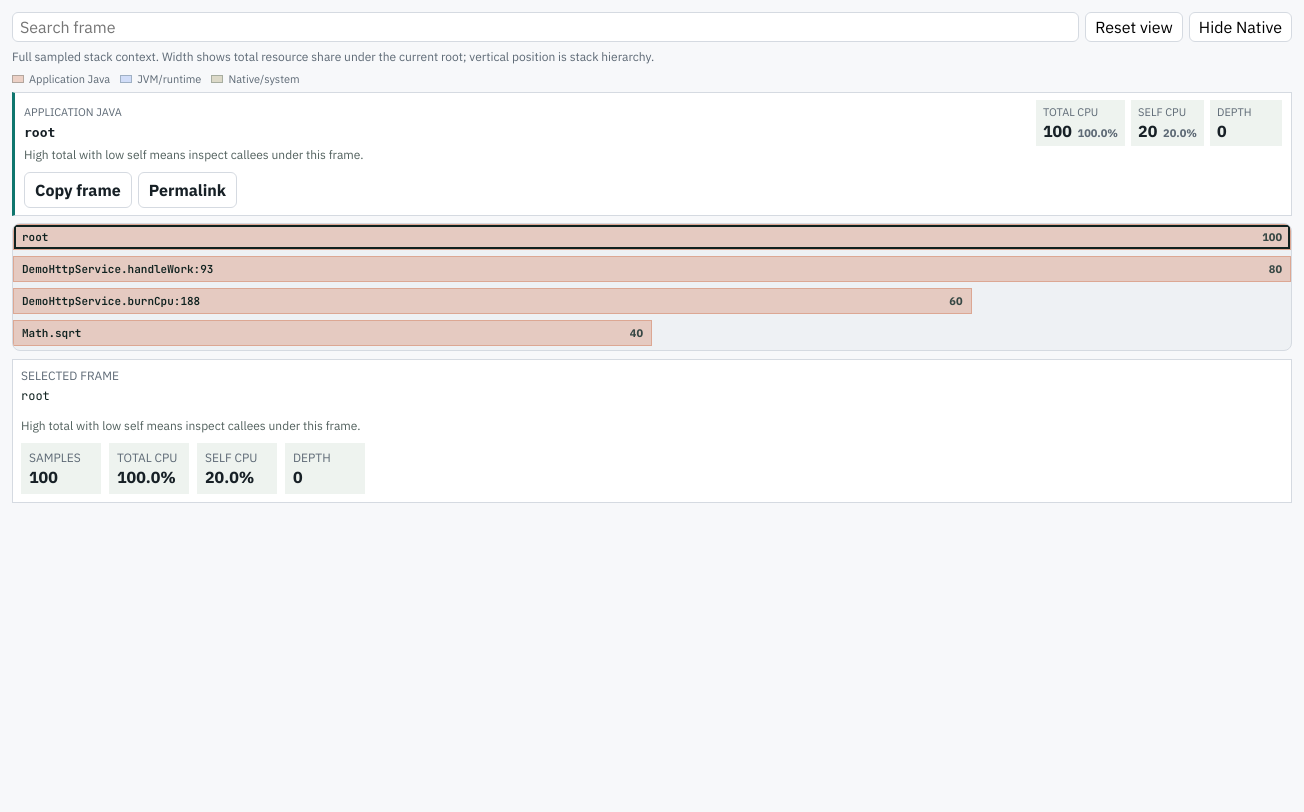
Test case: walks back through consecutive focused frames and reset returns to root
The image size is (1304, 812).
Step 1. Click the button "DemoHttpService.handleWork:93 80" → {"x": 118, "y": 269}, box [13, 256, 1291, 282]
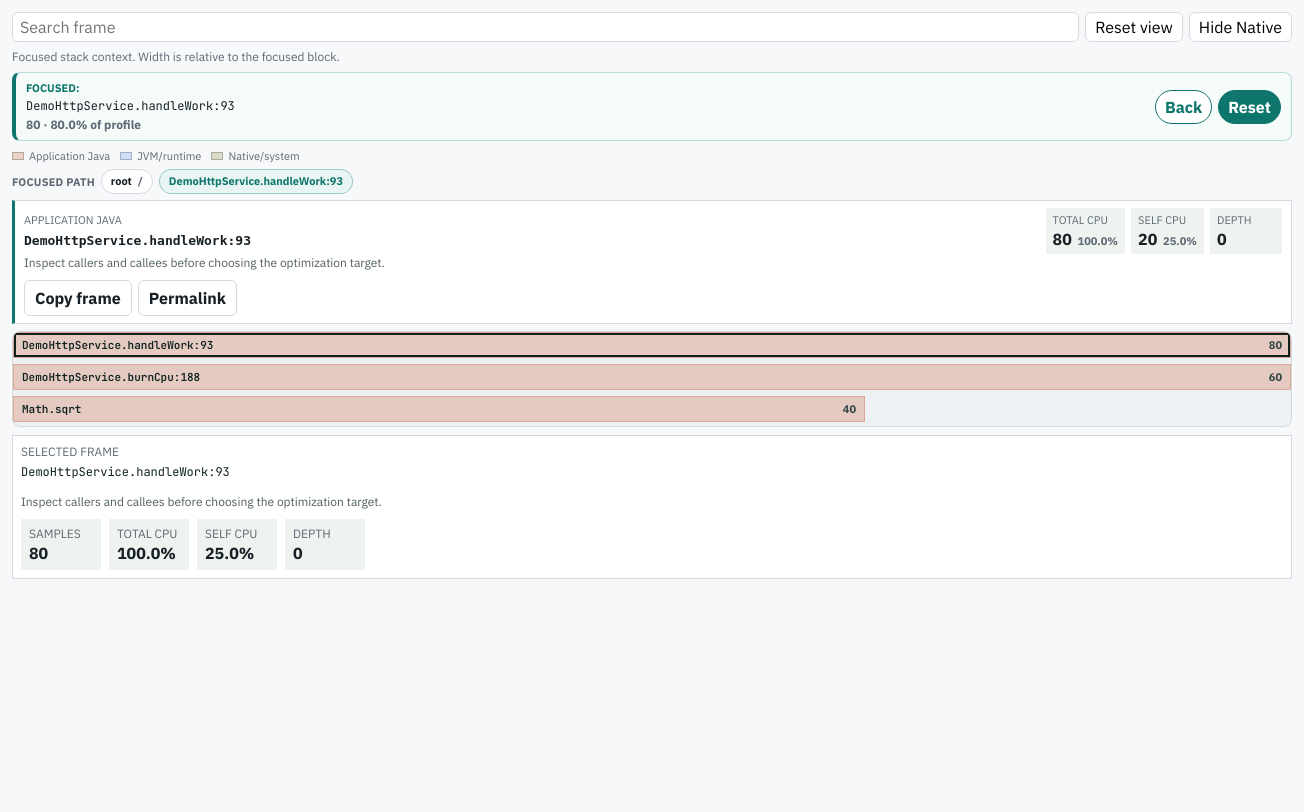
Result: the element named "Focused flamegraph state" shows "DemoHttpService.handleWork:93" at [26, 98, 235, 114]
Step 2. Click the button "DemoHttpService.burnCpu:188 60" → {"x": 111, "y": 377}, box [13, 364, 1291, 390]
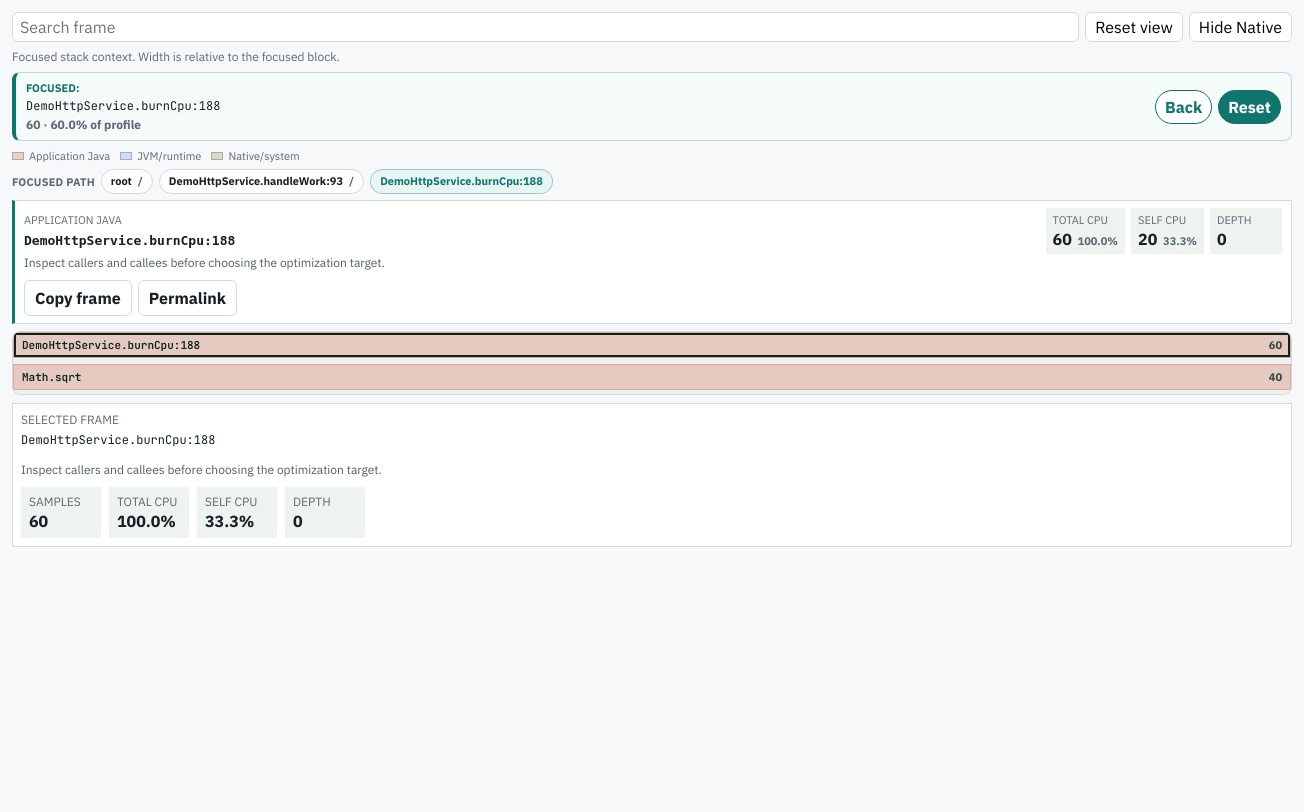
Result: the element named "Focused flamegraph state" shows "DemoHttpService.burnCpu:188" at [26, 98, 220, 114]
Step 3. Click the button "Back" → {"x": 1184, "y": 107}, box [1155, 90, 1212, 124]
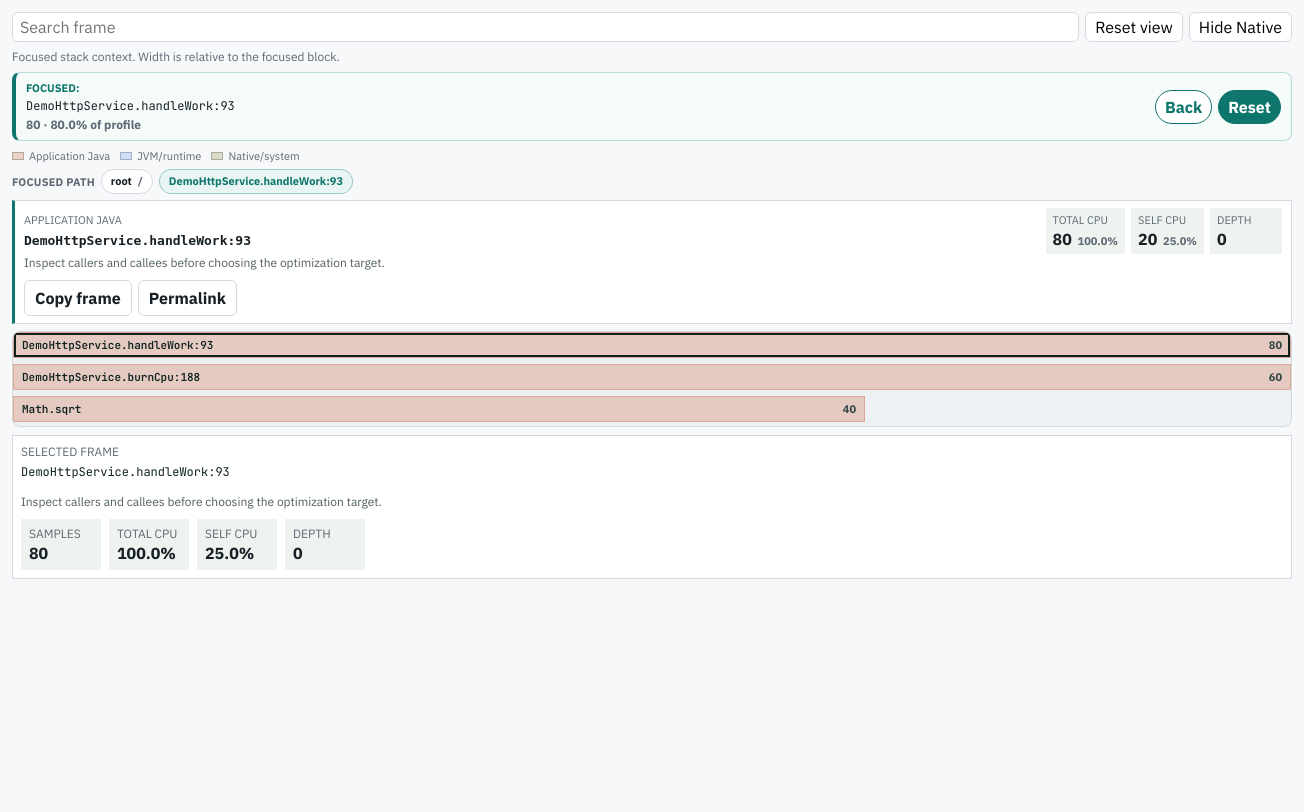
Result: the element named "Focused flamegraph state" shows "DemoHttpService.handleWork:93" at [26, 98, 235, 114]
Step 4. Click the button "Reset" → {"x": 1250, "y": 107}, box [1218, 90, 1281, 124]
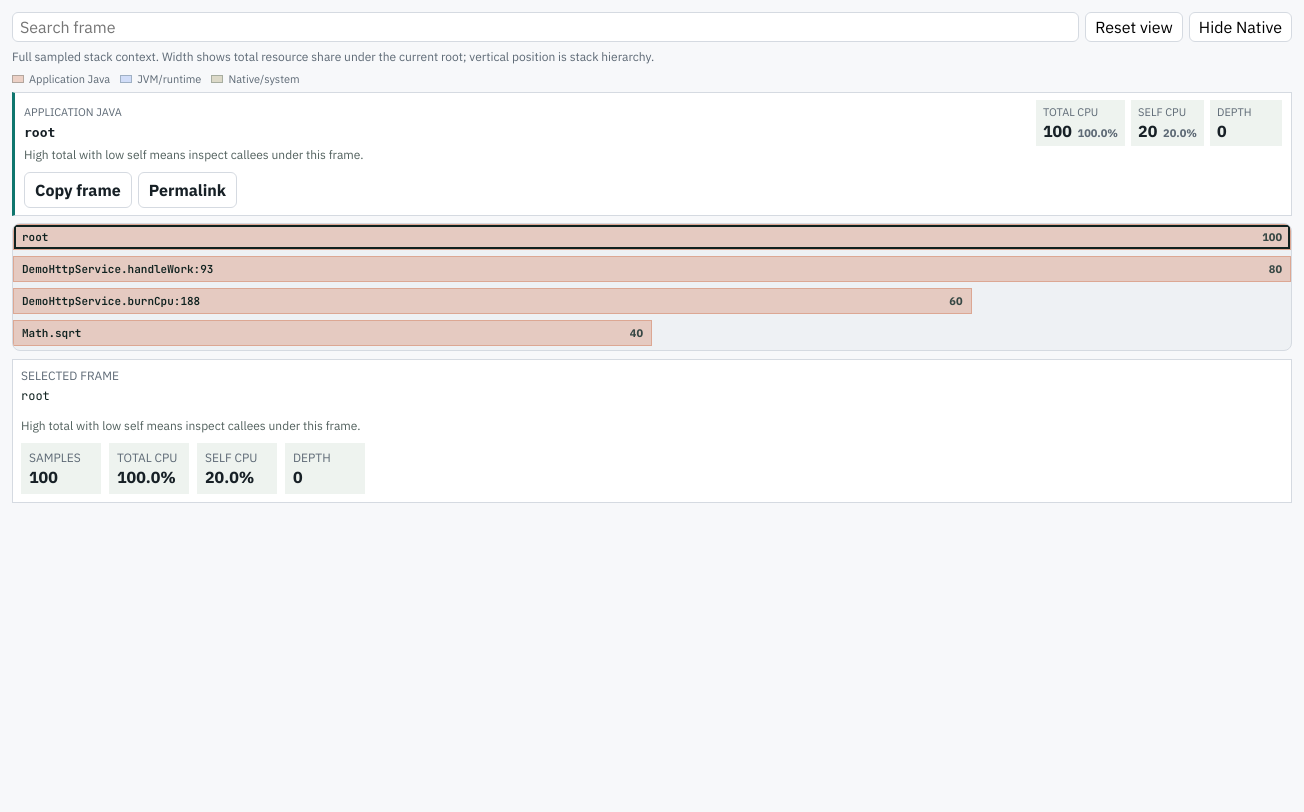
Result: the button with aria-label "root. Application Java. Total CPU 100" is shown at [13, 224, 1291, 250]
